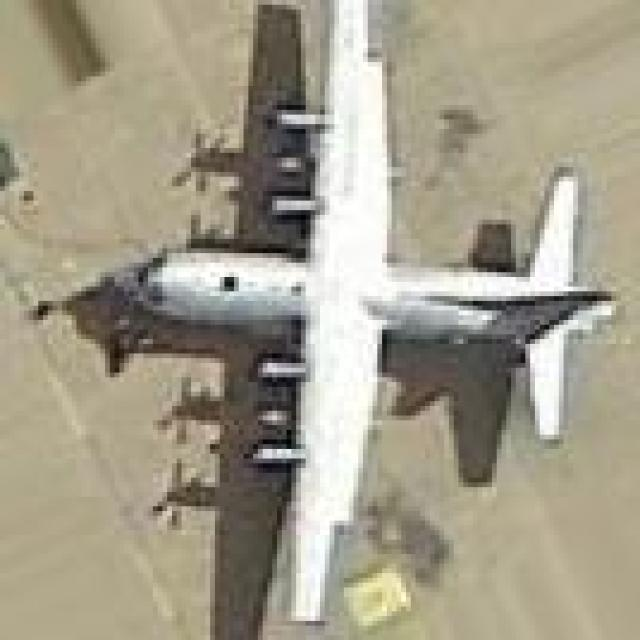C-130_TopDown: (64, 0, 618, 640)
